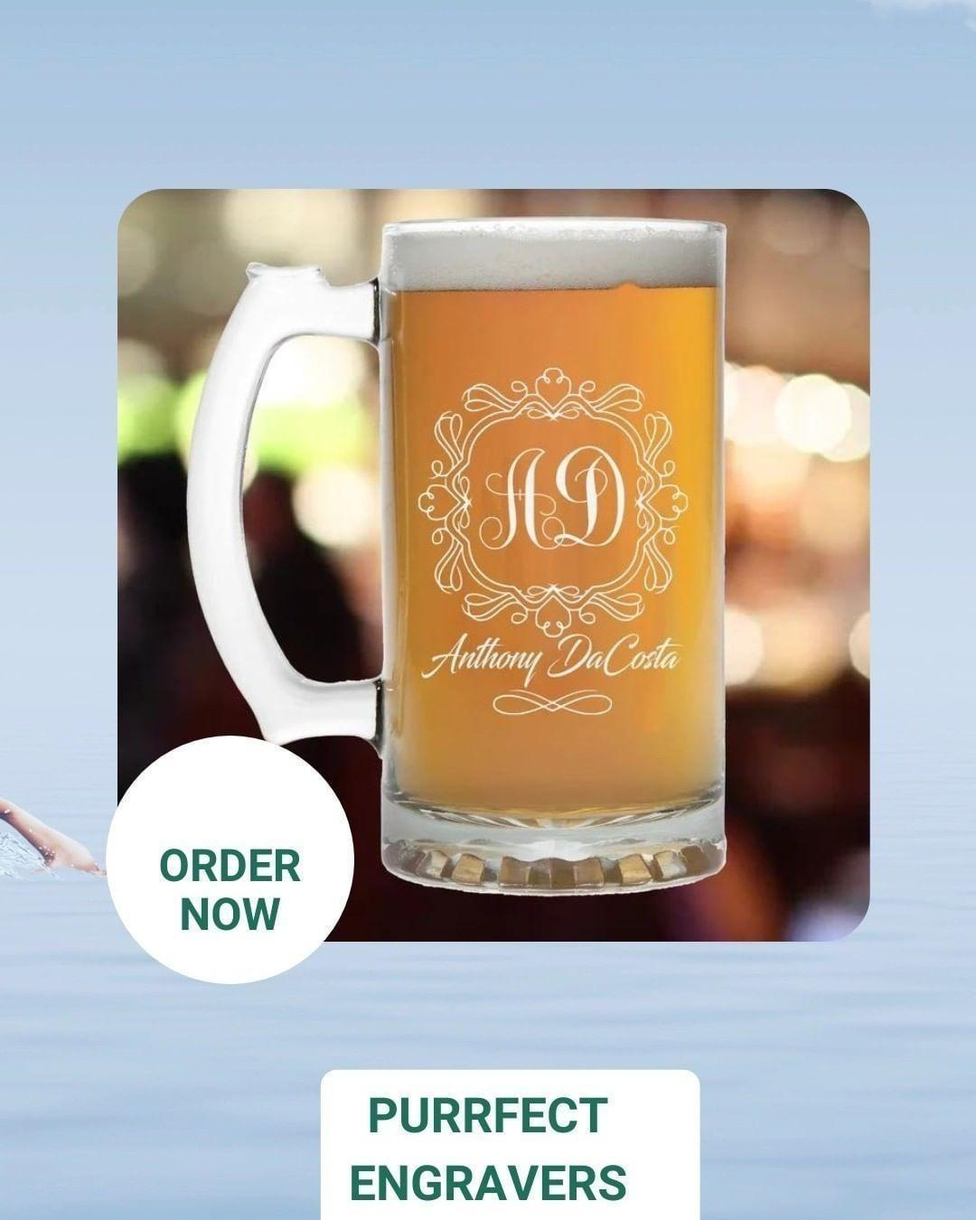glass-mug: (183, 207, 745, 895)
